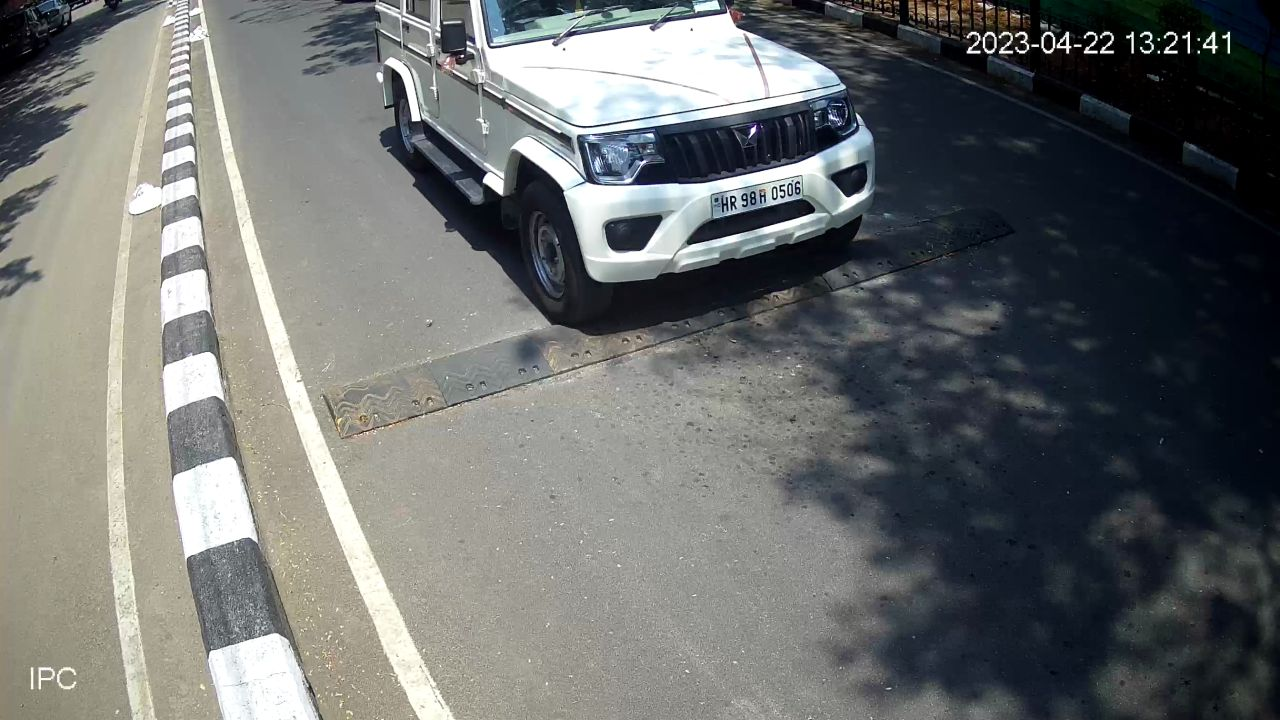license_plate: (707, 172, 806, 230)
